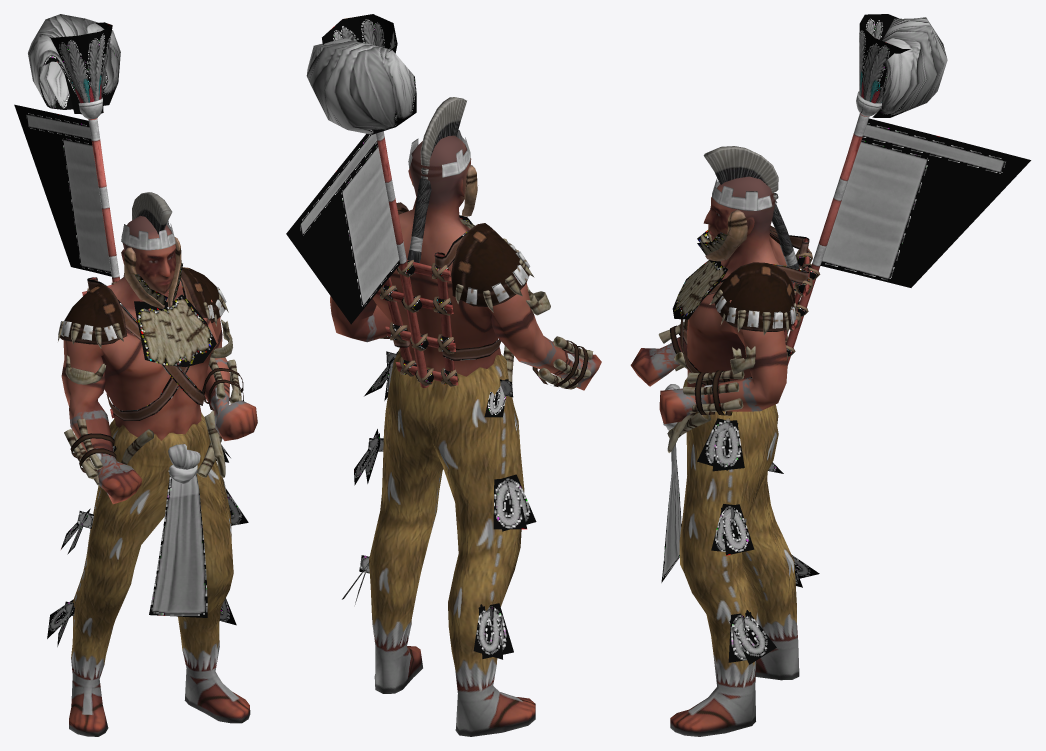
Rendered from body-heavygreattemplesoldiers.glb.
3 renders of one model, left to right at view 1: azimuth 30°, elevation 25°; view 2: azimuth 150°, elevation 25°; view 3: azimuth 270°, elevation 25°, orthographic. The views are drawn at different scales.
Bounding box in the file's own units: 0.8548 × 2.85 × 1.53.
Materials: 3 (3 with a texture image).
